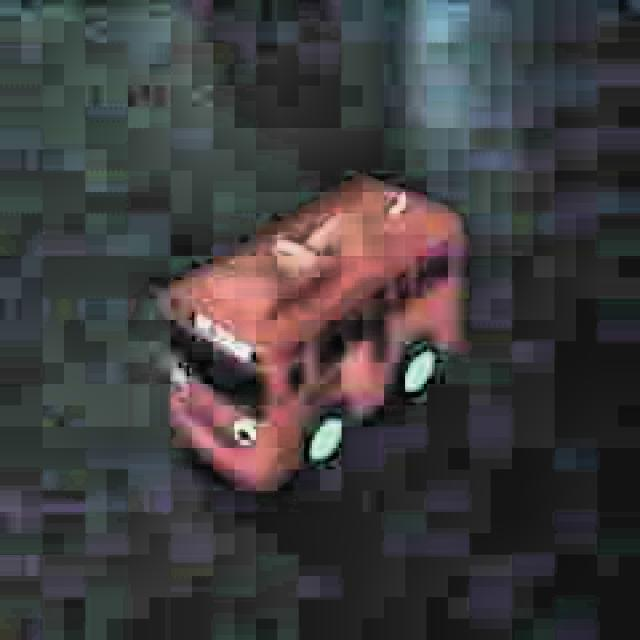bus: (158, 170, 479, 506)
